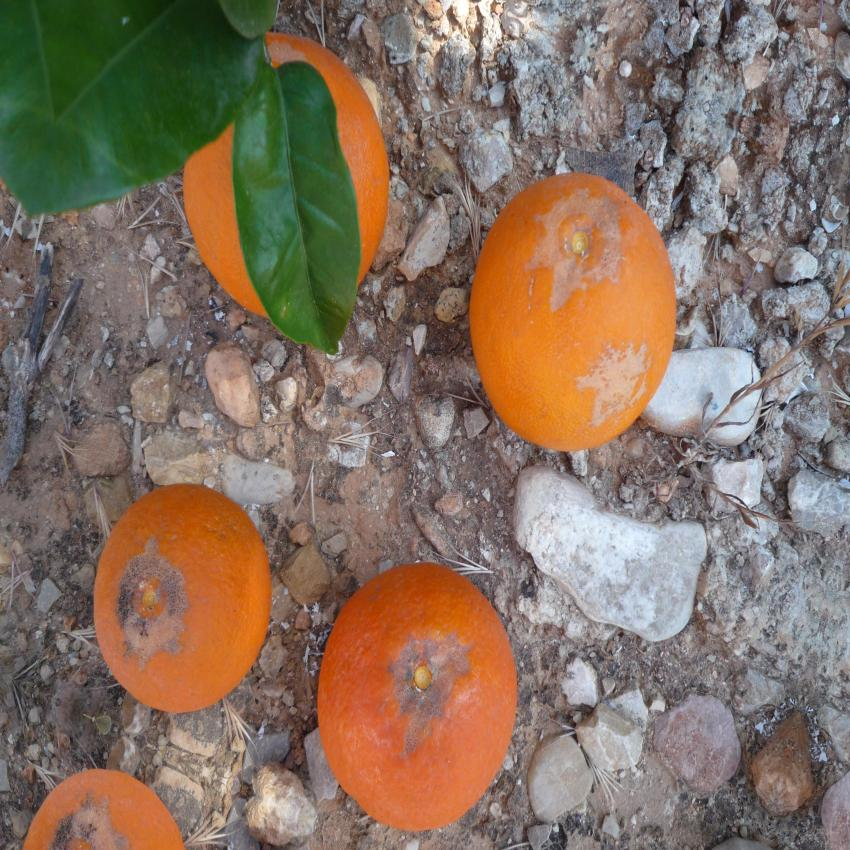Mal estado: (445, 155, 697, 512), (170, 36, 417, 389), (310, 554, 556, 850), (89, 464, 284, 710), (13, 745, 199, 847)
